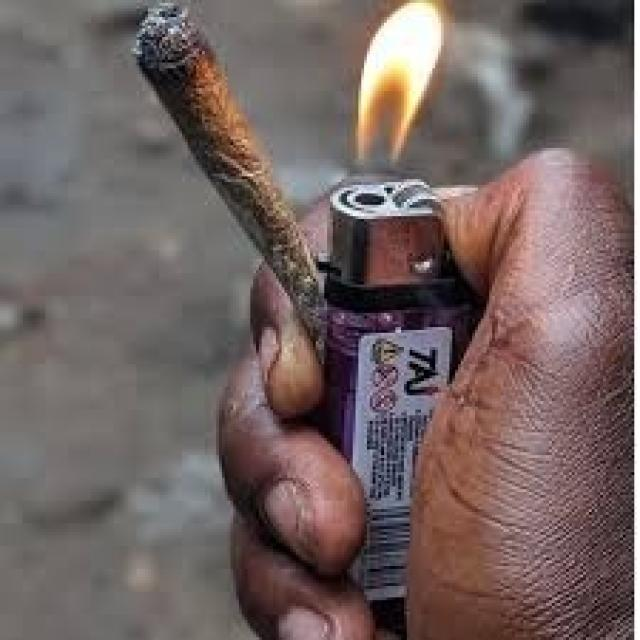fire: (355, 0, 444, 159)
